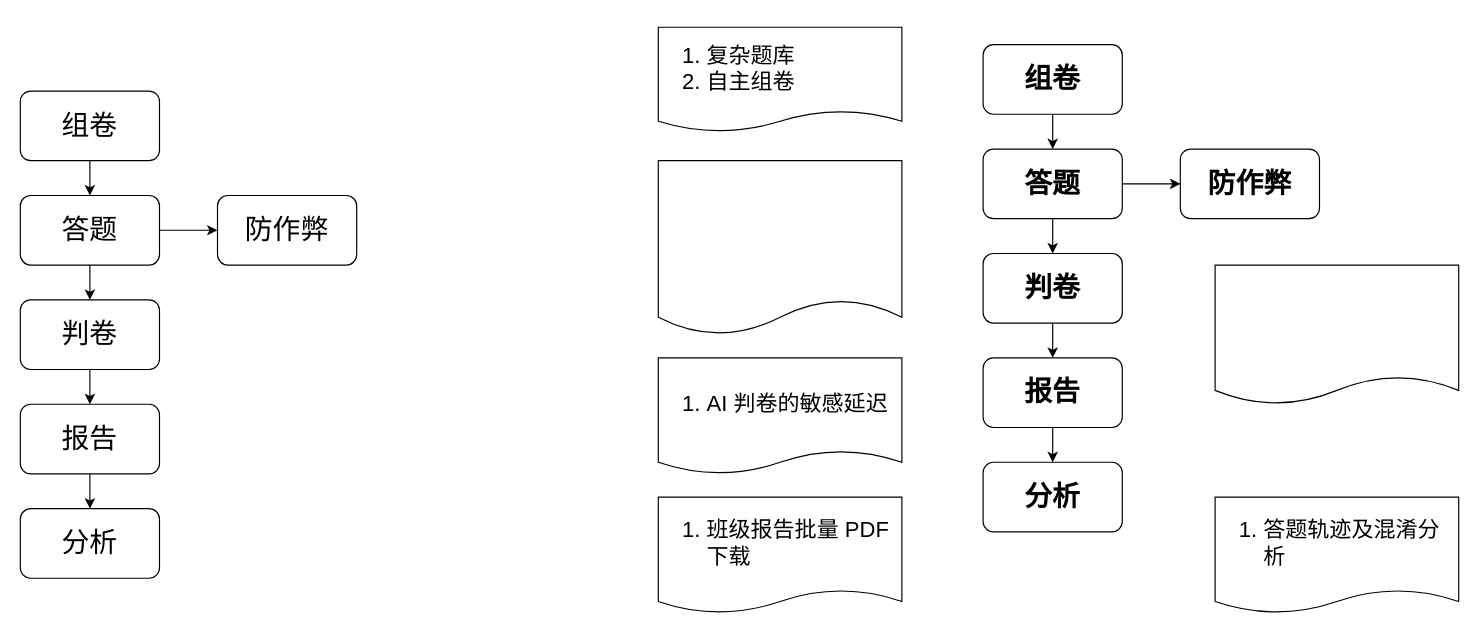
Some shapes in this 1479 by 633 pixel diagram are drawn without their labels. Each missing label, with the centre of its shape:
AB 卷 单设备登录 离屏检测 IP 限制: the point at 1336,334
高并发下 数据丢失 口语/文件上传 口语/本地难测: the point at 779,247
